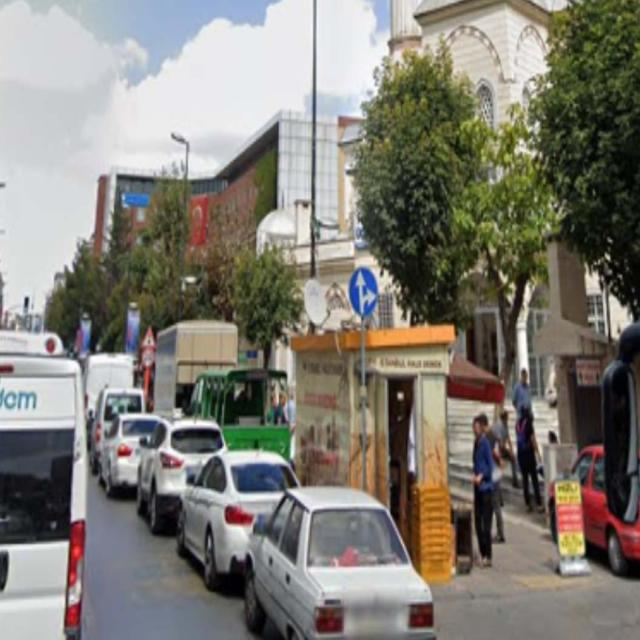ilerisag: (349, 266, 378, 316)
